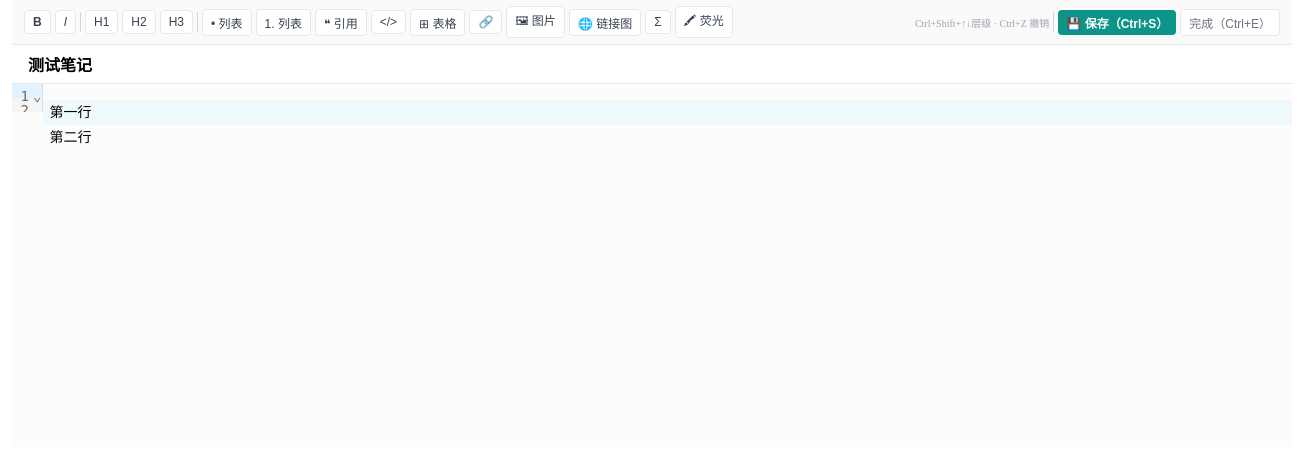
Test: RichEditorView 核心编辑 › Ctrl+Z 撤销工具栏操作（CM history 内建）
Expected: the field with class "cm-content" shows "第一行", [43,100,1292,145]
Click the button titled "标题2 Ctrl+2".
click(139, 22)  # box [122,10,156,34]
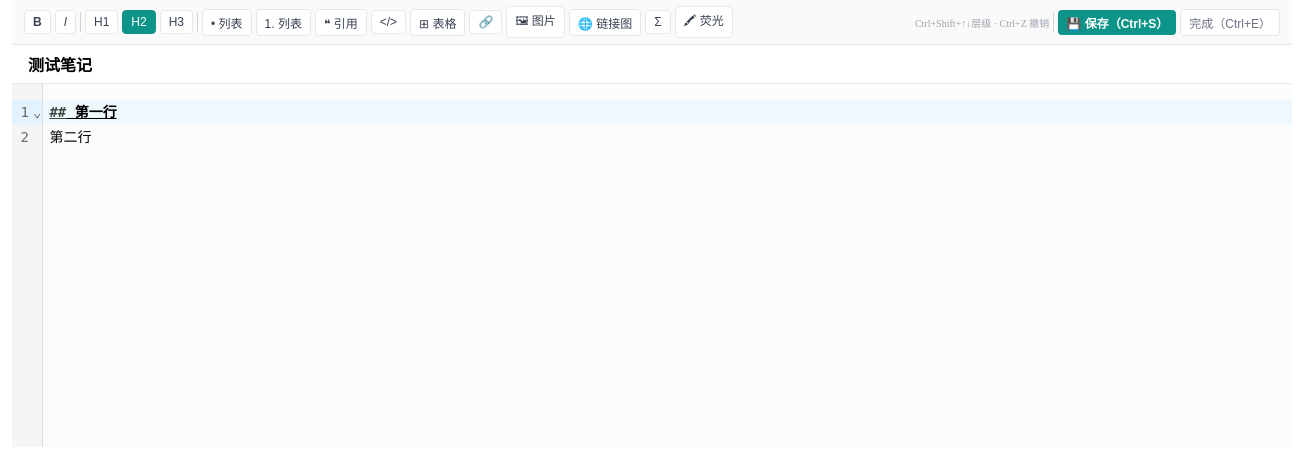
Now the field with class "cm-content" shows "## 第一行"
Press z in the field with class "cm-content", box [43,100,1292,145]
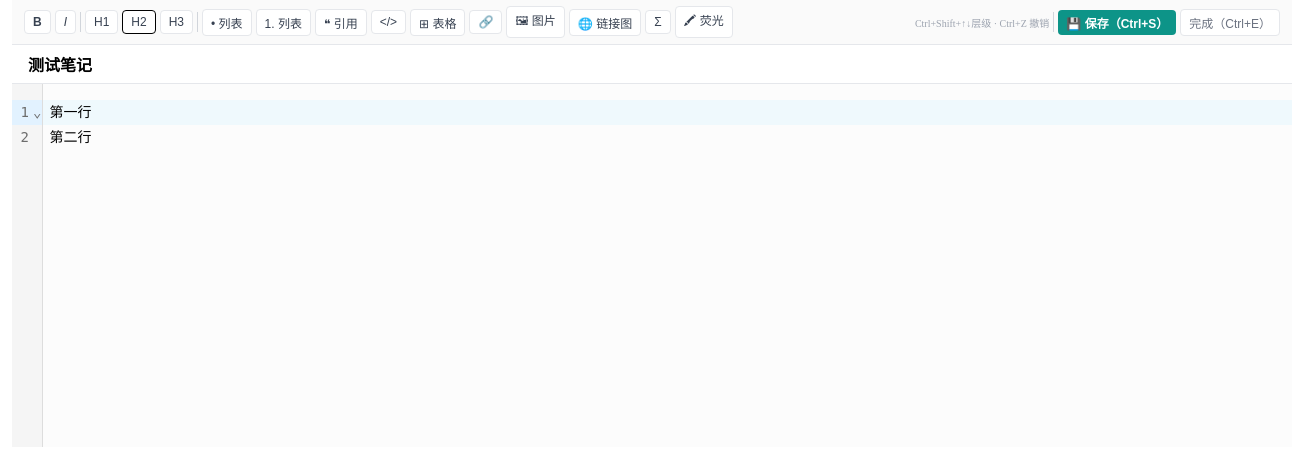
Now the text box with class "cm-content" no longer shows "##"
